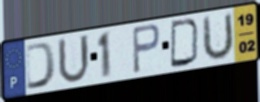1: (96, 29, 115, 81)
D: (24, 40, 59, 92), (169, 18, 202, 70)
P: (131, 22, 163, 76)
U: (56, 33, 92, 86), (201, 11, 235, 64)
